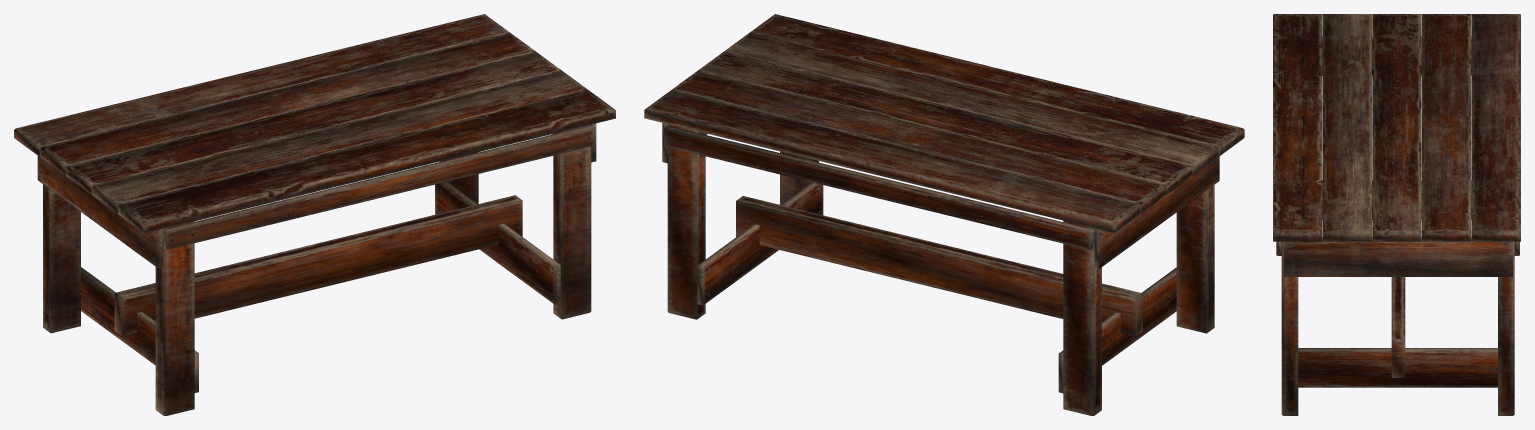
Rendered from Table.fbx.
The picture shows the model from 3 angles, left to right: view 1: azimuth 30°, elevation 25°; view 2: azimuth 150°, elevation 25°; view 3: azimuth 270°, elevation 25°; orthographic projection. The views are drawn at different scales.
Visible parts, largest first — view 1: Table; view 2: Table; view 3: Table.
Part boxes in pixels (x1,y1,x2,y2): Table: [14, 14, 615, 415]; Table: [644, 14, 1244, 415]; Table: [1273, 14, 1520, 415].
Bounding box in the file's own units: 207 × 84.9 × 99.1.
